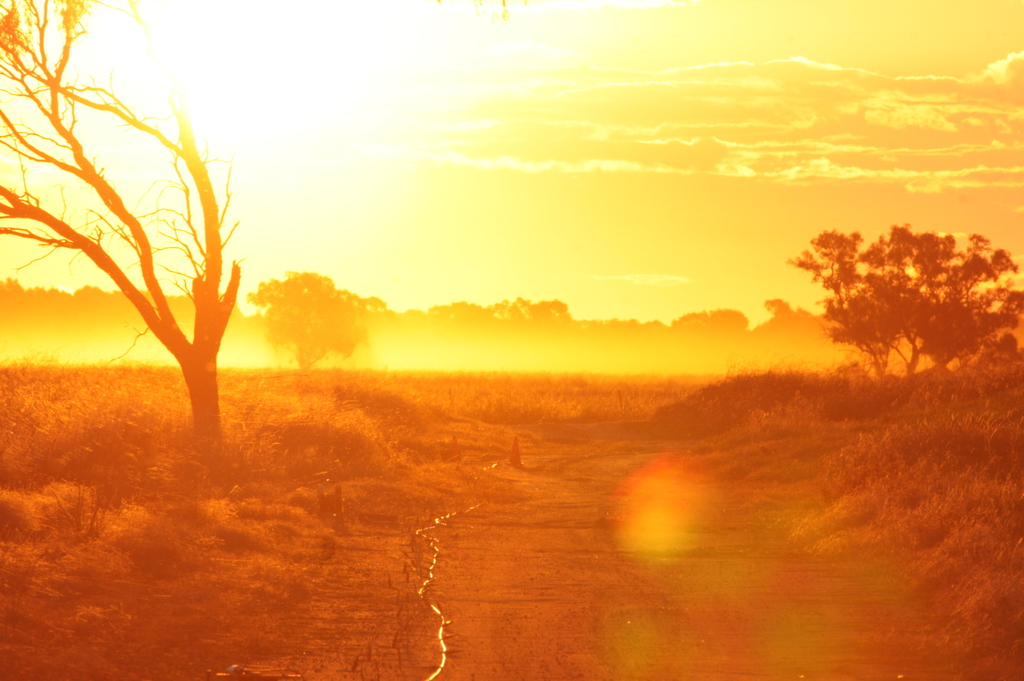Tree: (0, 0, 237, 443), (0, 297, 1024, 368), (793, 221, 1024, 374), (249, 272, 369, 372)
